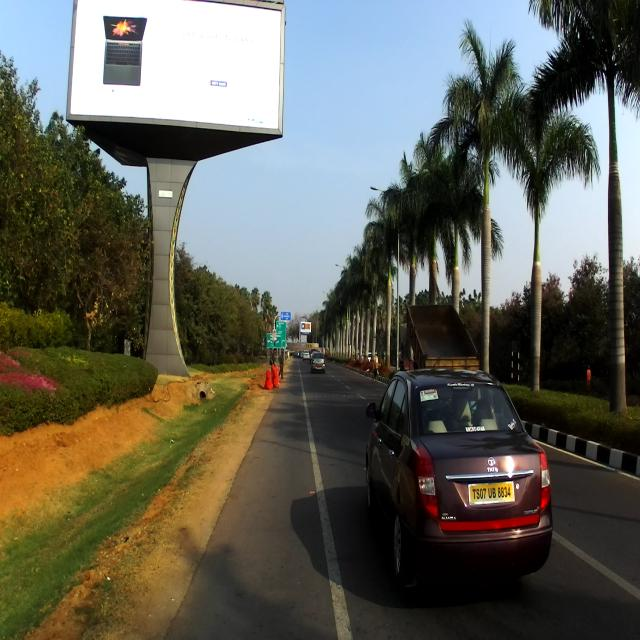car ahead at: (355, 354, 558, 597)
